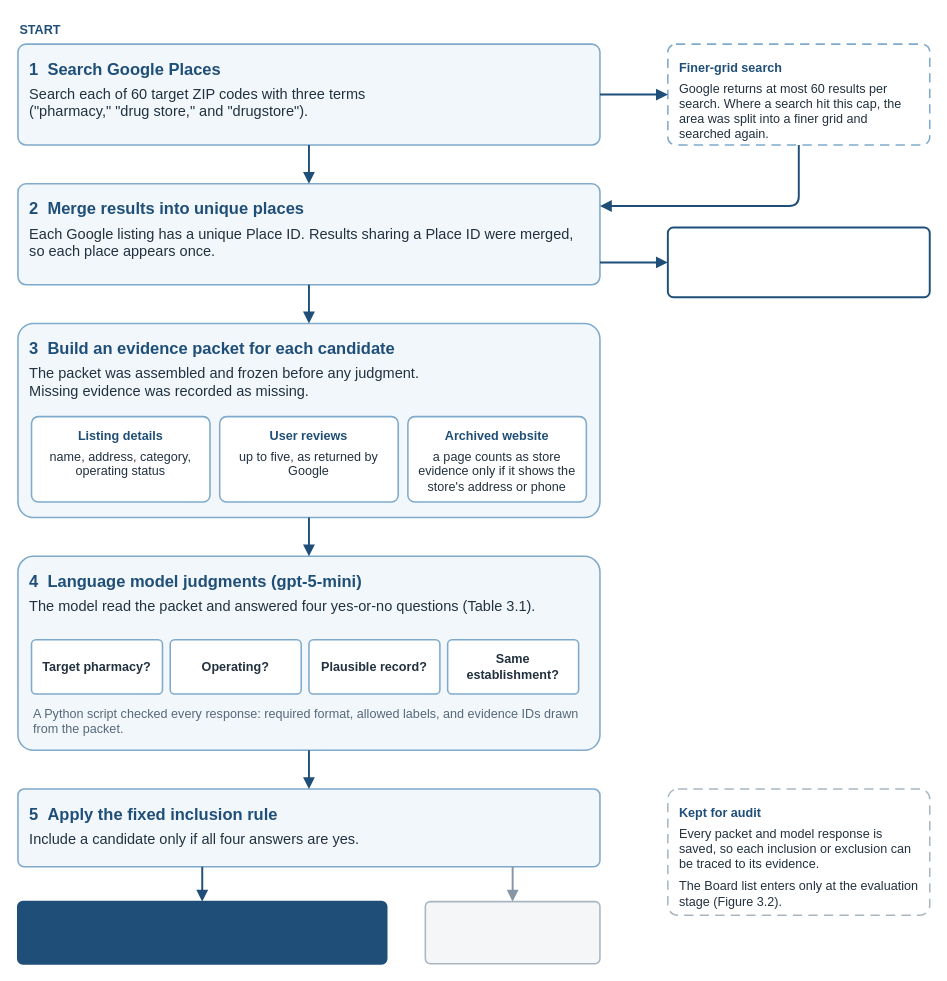
The diagram is 947 pixels wide and 981 high, and some of its shapes have lost their labels. The centre of each missing label's shape, as x and y in pixels:
"2,062 candidates from all searches" belongs at (798,262).
"Excluded 1,470" belongs at (512,932).
"Workflow pharmacy inventory 592 included" belongs at (201,932).
